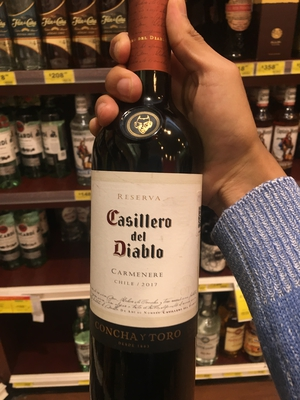casillero del diablo carmenere: (77, 29, 228, 400)
